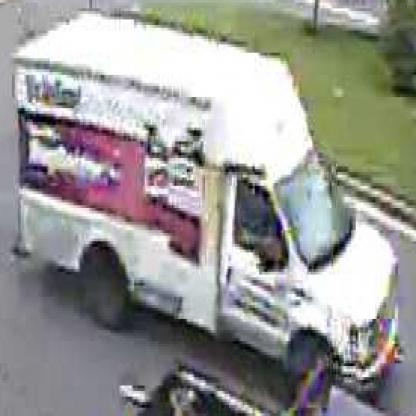truck: (14, 23, 399, 395)
